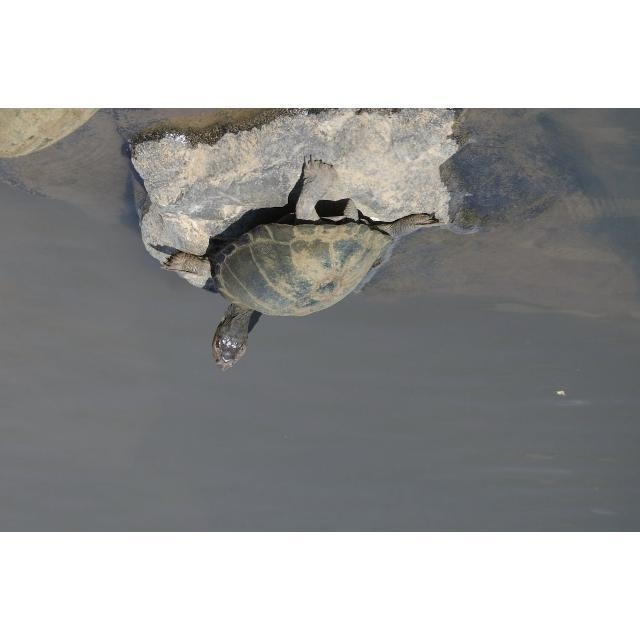turtle: (162, 156, 439, 370)
